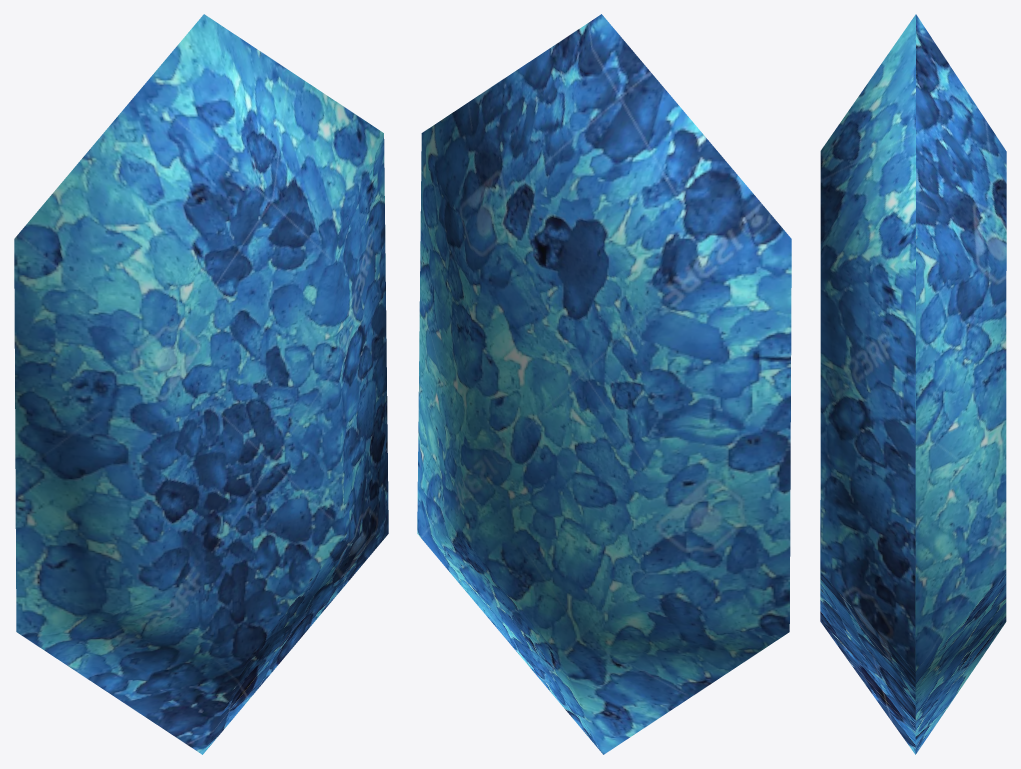
File: gem.fbx
The picture shows the model from 3 angles, left to right: view 1: azimuth 30°, elevation 25°; view 2: azimuth 150°, elevation 25°; view 3: azimuth 270°, elevation 25°; orthographic projection.
Parts seen in each view (by area): view 1: Cube.001; view 2: Cube.001; view 3: Cube.001.
Part boxes in pixels (x1,y1,x2,y2): Cube.001: [14, 14, 388, 754]; Cube.001: [417, 14, 791, 754]; Cube.001: [820, 14, 1006, 754].
Bounding box in the file's own units: 496 × 213 × 938.
Materials: 1 (1 with a texture image).
